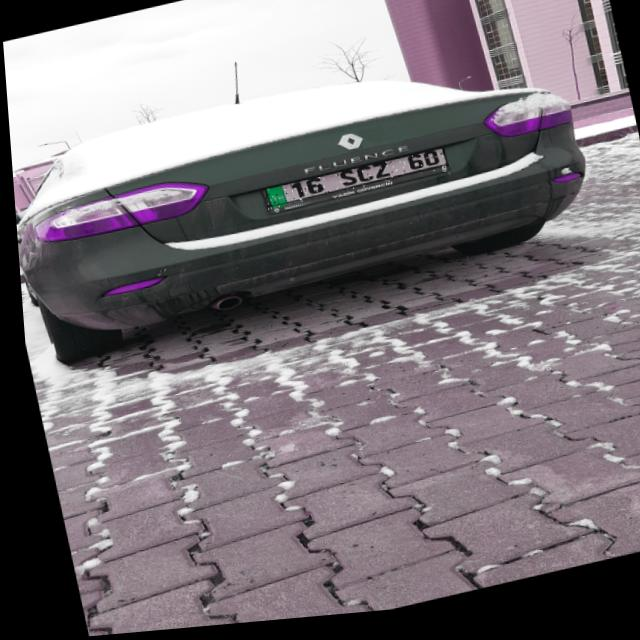license_plate: (259, 157, 447, 215)
